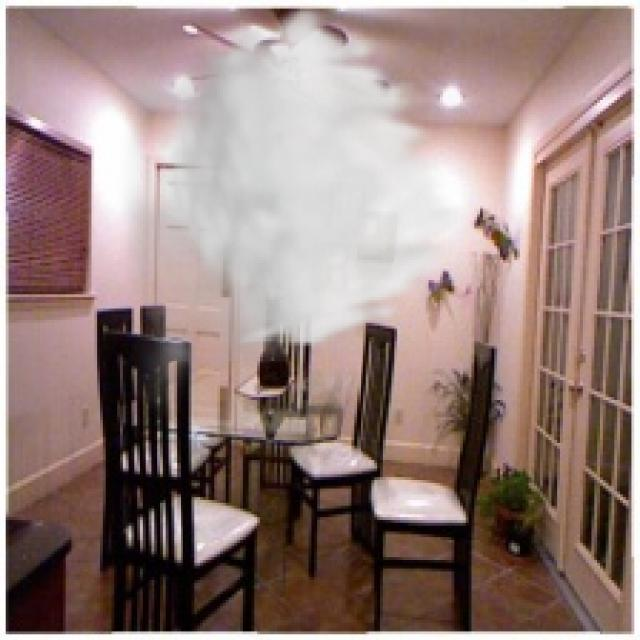Smoke: (94, 3, 472, 423)
